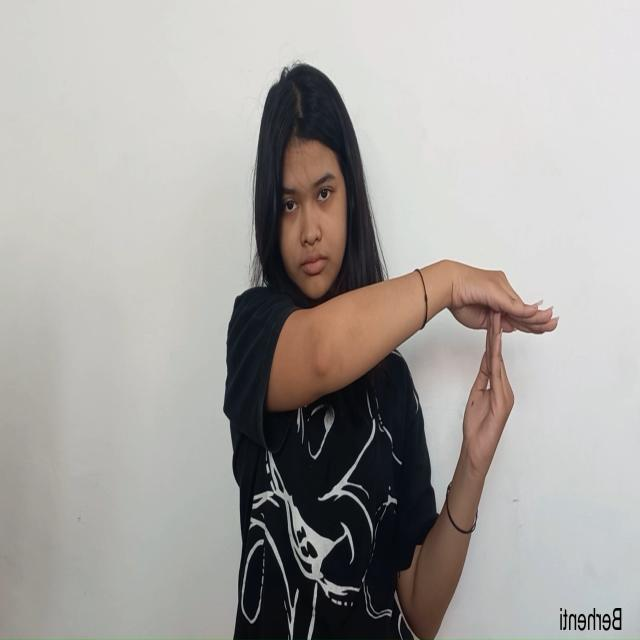Berhenti -BISINDO-: (441, 255, 560, 484)
